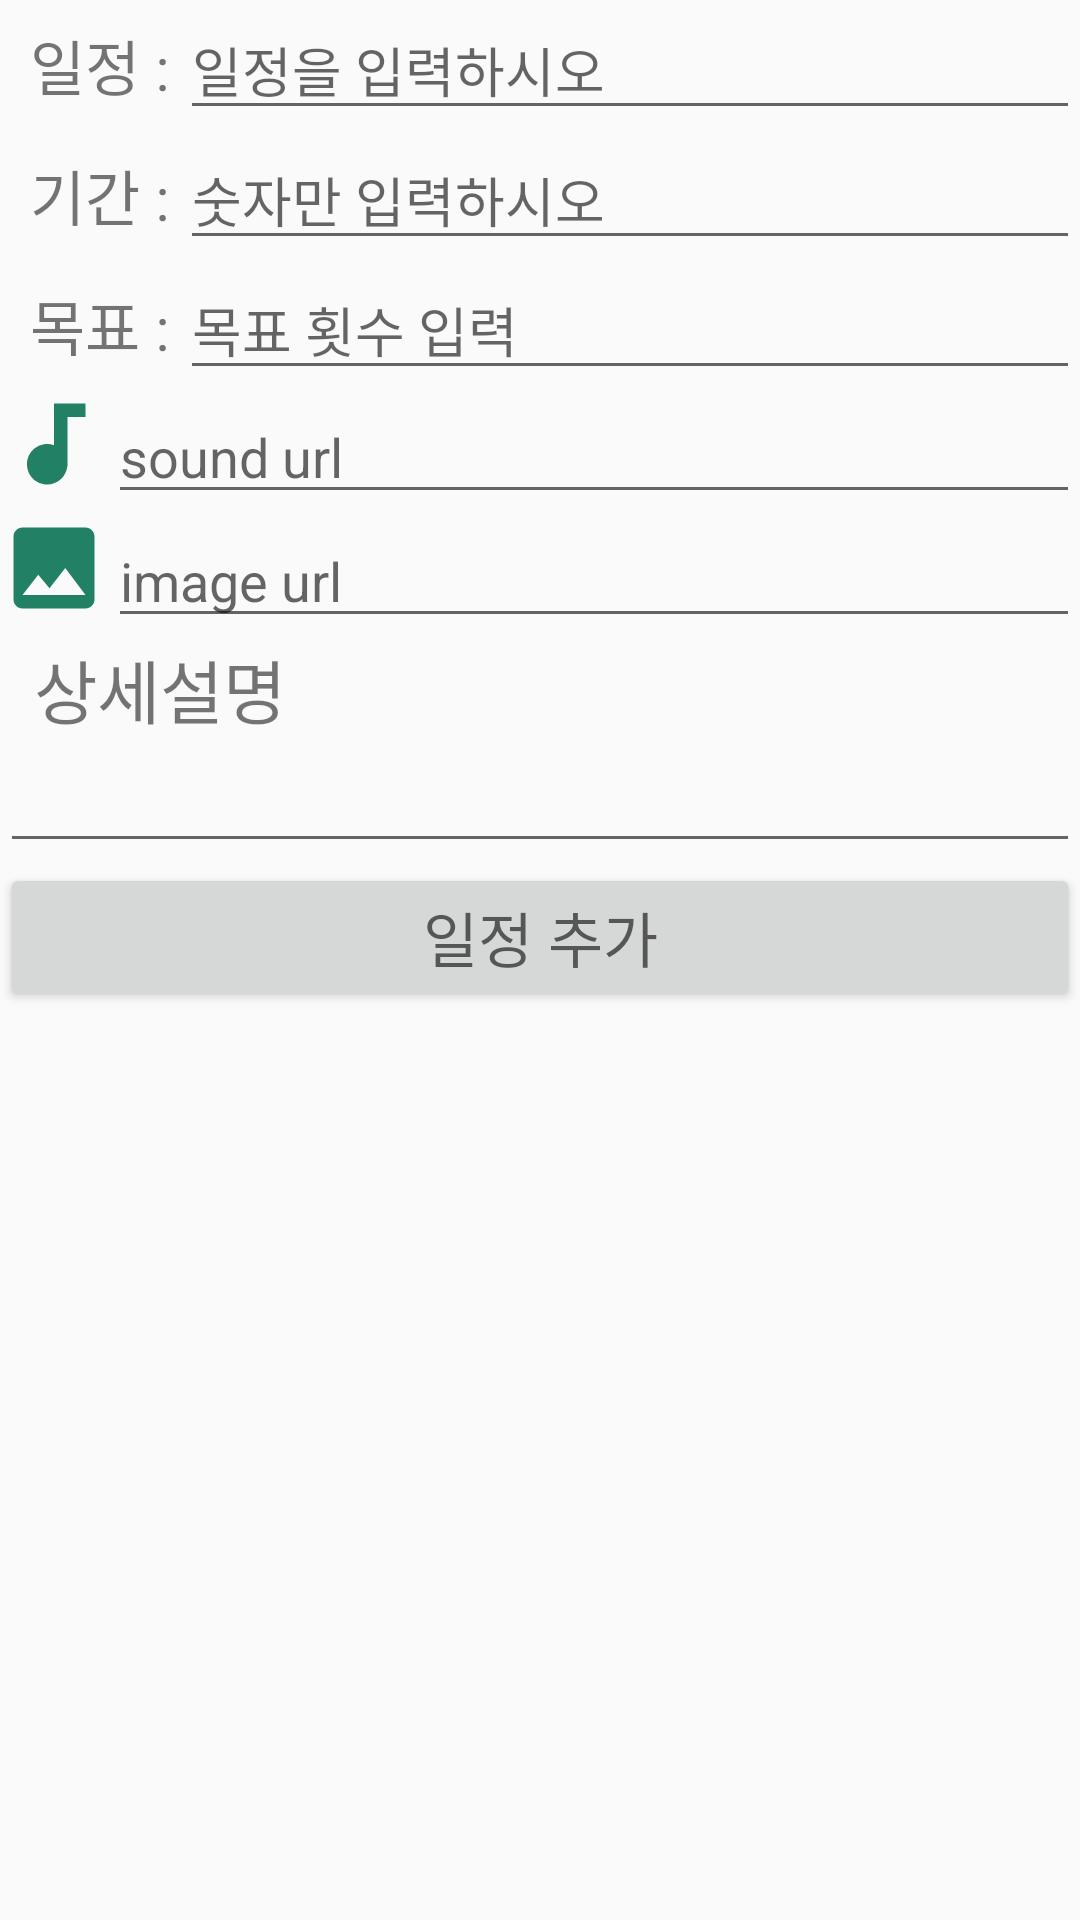

Locate icon controls on the screen. Image size 1080px×1920px, boxes as Rect(x1, y1, x2, y2).
audiotrack: Rect(27, 403, 86, 485)
